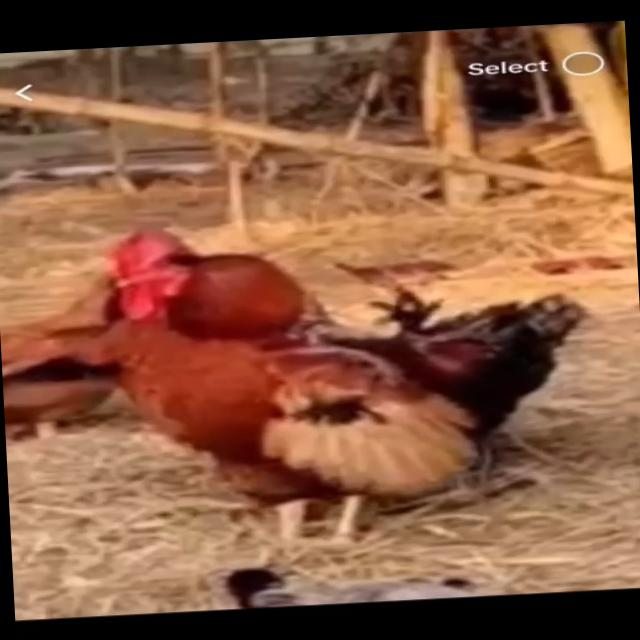wing flap: (0, 192, 621, 570)
